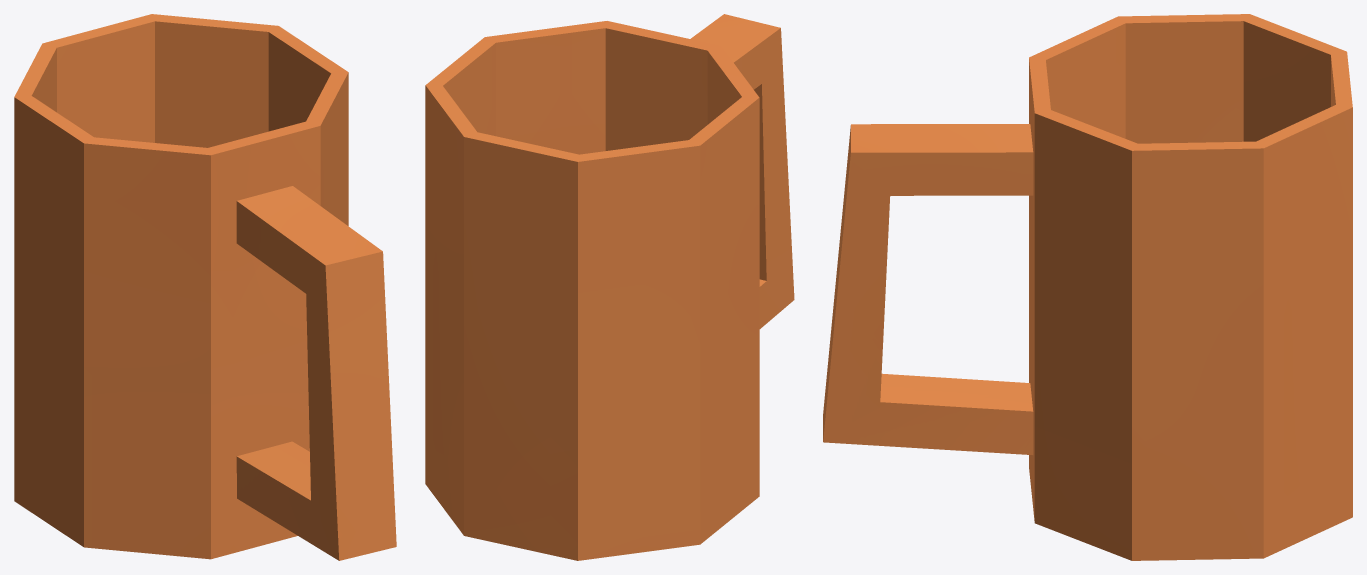
File: Cup_6.fbx
The picture shows the model from 3 angles, left to right: view 1: azimuth 30°, elevation 25°; view 2: azimuth 150°, elevation 25°; view 3: azimuth 270°, elevation 25°; orthographic projection. The views are drawn at different scales.
Parts seen in each view (by area): view 1: Cup_6; view 2: Cup_6; view 3: Cup_6.
Part boxes in pixels (x1=…): Cup_6: x1=14, y1=14, x2=396, y2=560; Cup_6: x1=425, y1=14, x2=794, y2=560; Cup_6: x1=823, y1=14, x2=1352, y2=560.
Size of the model in its own units: 4.15 by 5.79 by 6.78.
